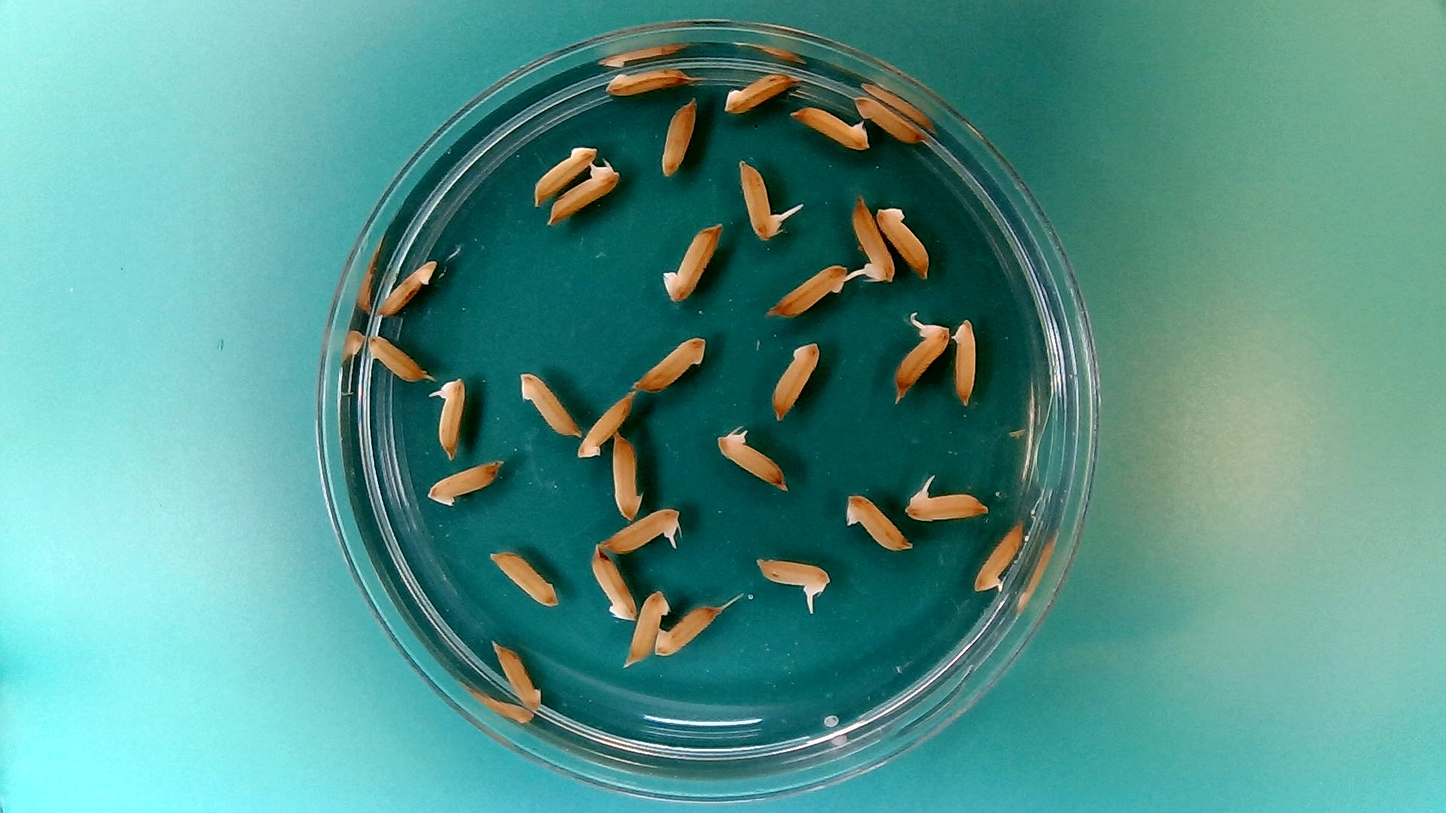no: (532, 139, 606, 209), (664, 219, 724, 303), (969, 516, 1029, 598), (631, 331, 709, 394), (766, 259, 846, 320), (841, 489, 914, 555), (517, 367, 581, 438), (873, 200, 932, 277), (769, 337, 823, 421), (486, 547, 560, 607), (575, 388, 635, 461), (425, 456, 505, 510), (652, 599, 724, 658), (789, 103, 873, 152), (853, 96, 933, 147), (490, 638, 544, 712), (376, 255, 438, 318), (590, 544, 639, 623), (721, 68, 800, 117), (623, 586, 669, 668), (656, 96, 699, 178), (363, 331, 428, 384), (611, 424, 645, 523), (602, 62, 690, 96), (949, 313, 978, 408)
yes: (544, 154, 625, 225), (891, 320, 950, 397), (714, 434, 789, 493), (601, 506, 685, 556), (850, 196, 896, 285), (739, 159, 782, 239), (429, 373, 467, 459), (906, 486, 990, 523), (755, 558, 832, 598)
